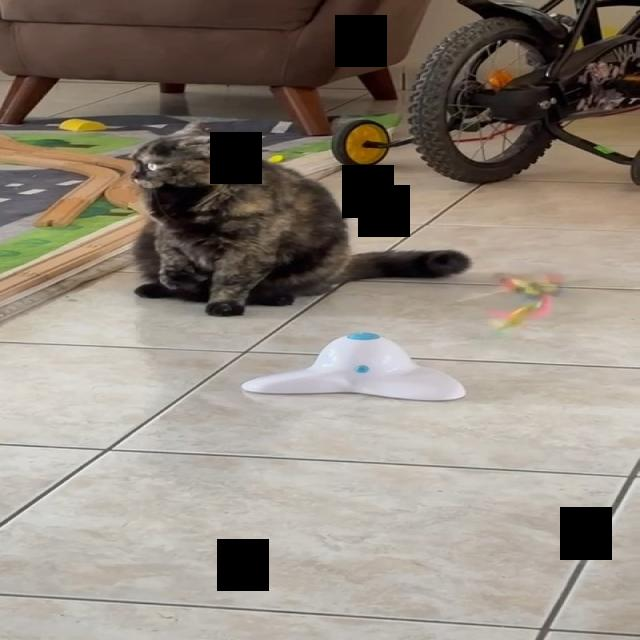authorized: (127, 120, 472, 317)
